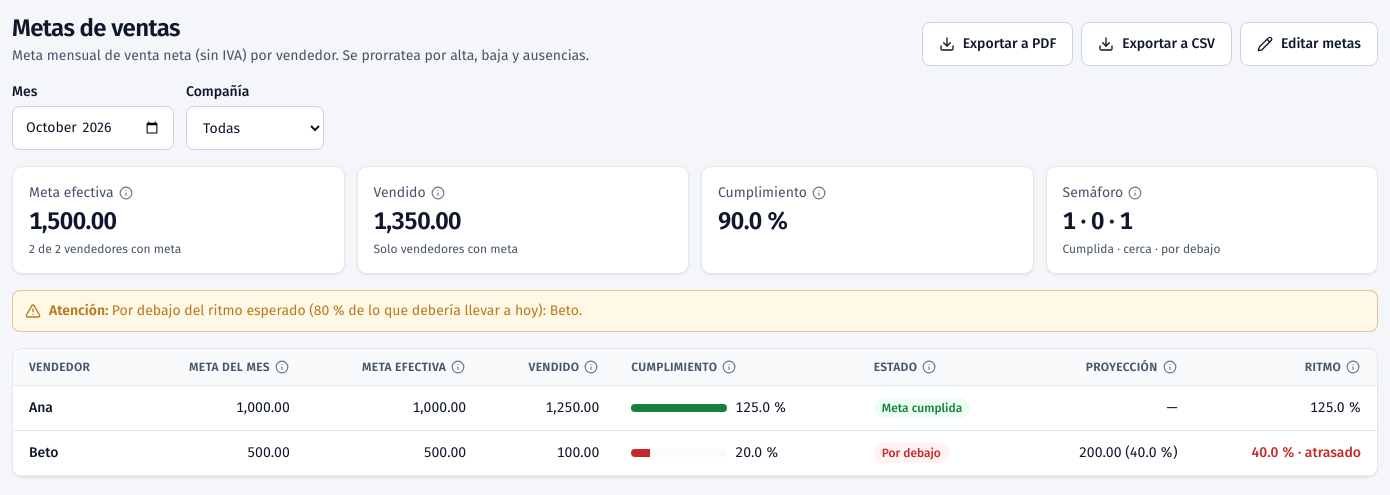
Scenario: metas de ventas › un mes inválido no consulta
Expected: the table named "Metas por vendedor" is shown, [13,349,1377,476]
Clear the field labelled "Mes" at (93, 128), box [12,106,174,150]
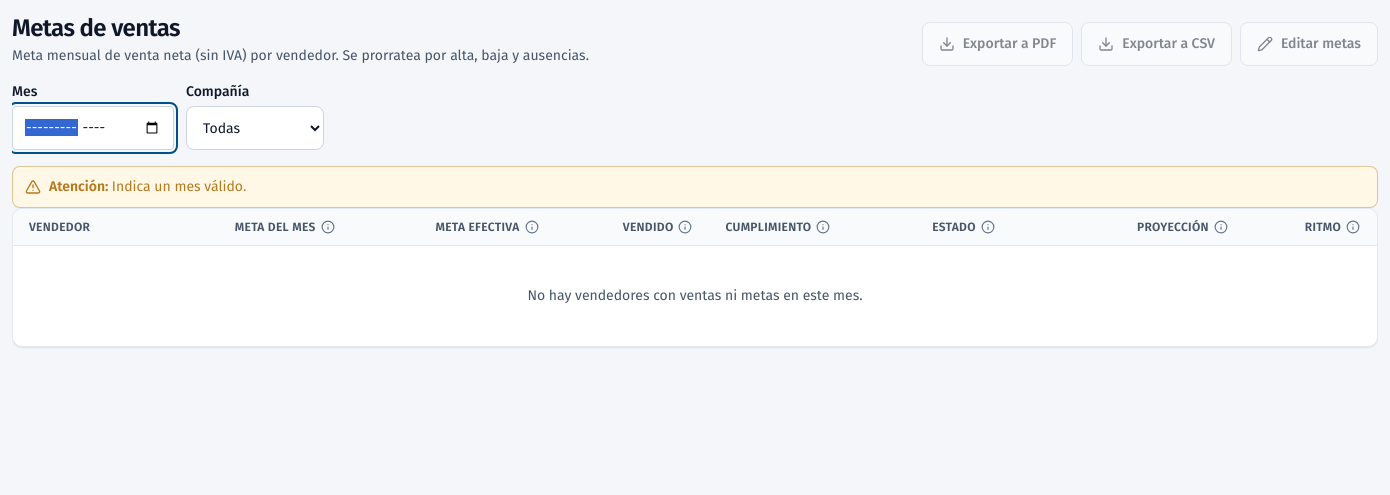
Result: the text "Indica un mes válido." is shown at [112,178,246,195]
